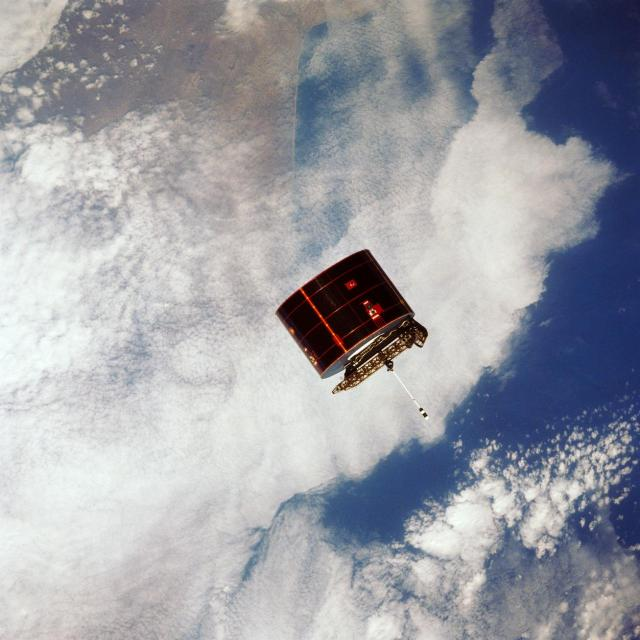satellite: (276, 250, 429, 420)
